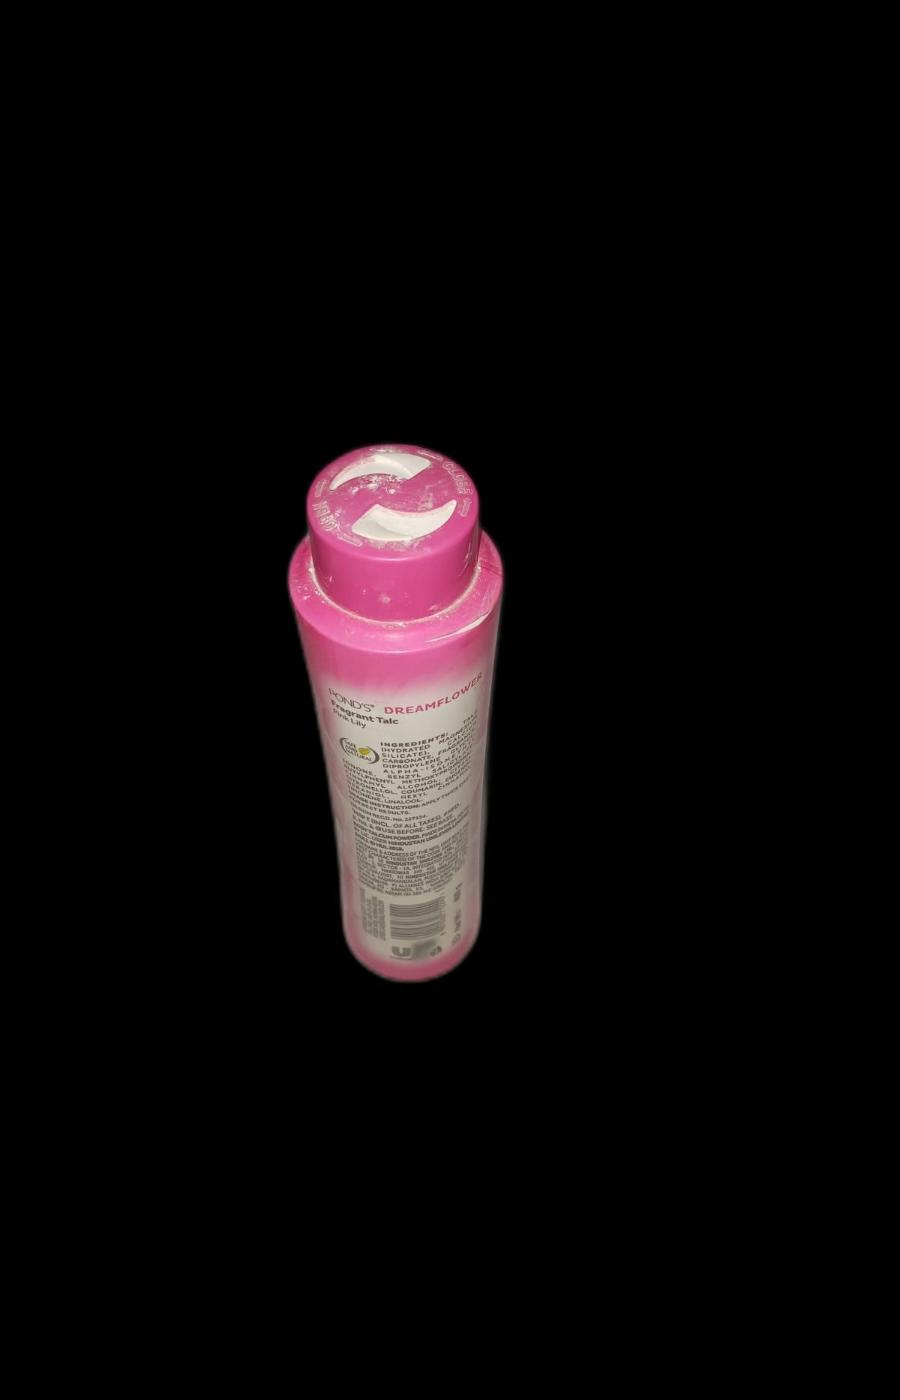Pond-s Dreamflower Pink Lily Fragrant Talc 400 g: (285, 450, 505, 985)
